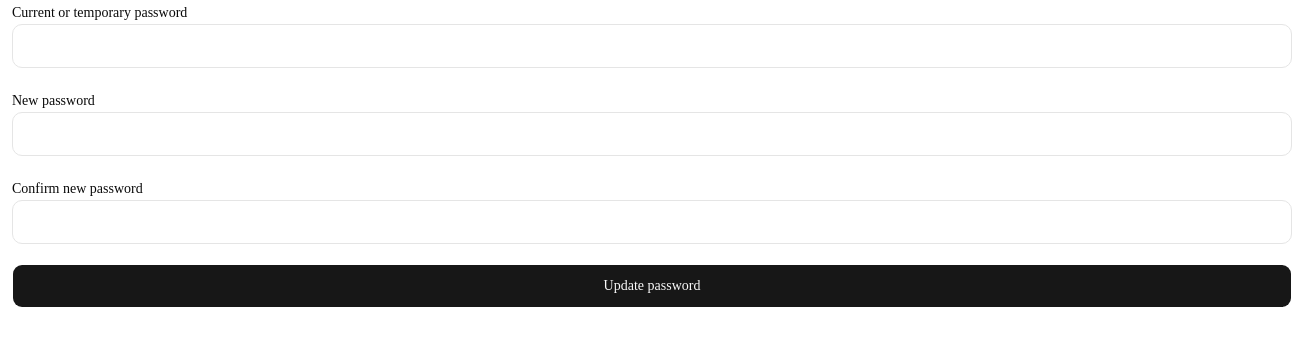
authentication and dashboard screens › renders password-change fields and validates mismatched passwords
In the password field labelled "Current or temporary password": (652, 46) [12,24,1292,68], type "current-password"
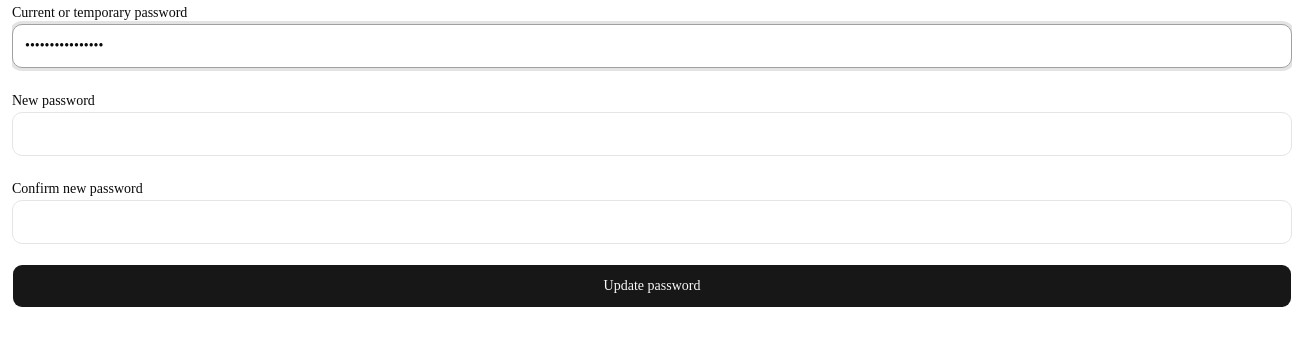
In the password field labelled "New password": (652, 134) [12,112,1292,156], type "new-password-123"
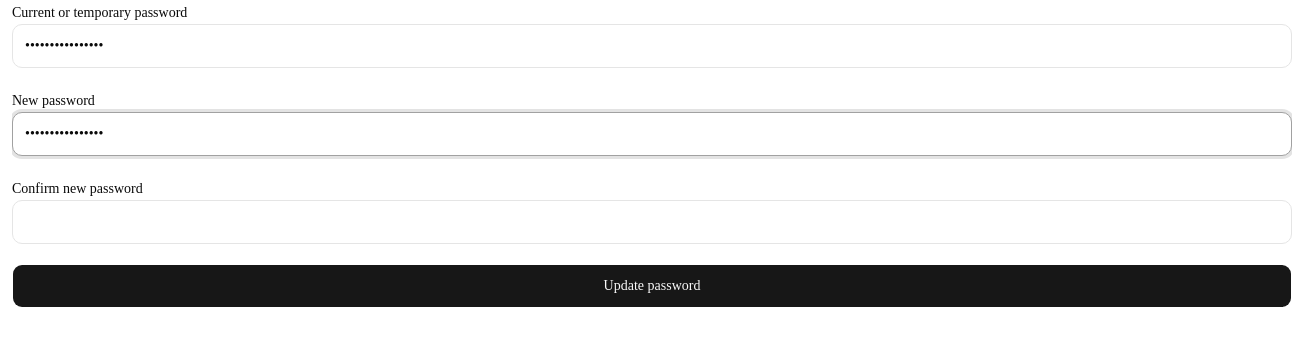
In the password field labelled "Confirm new password": (652, 222) [12,200,1292,244], type "different-password"
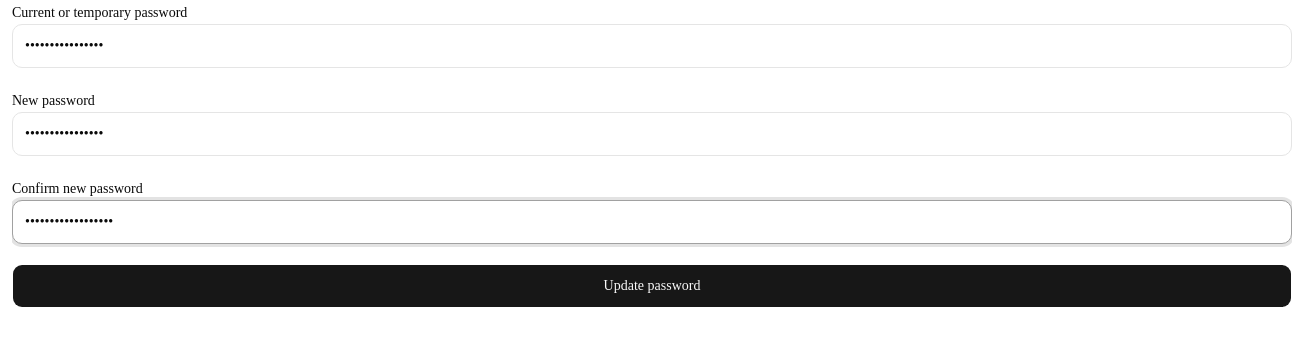
Click the button "Update password": (652, 286) [12,264,1292,308]
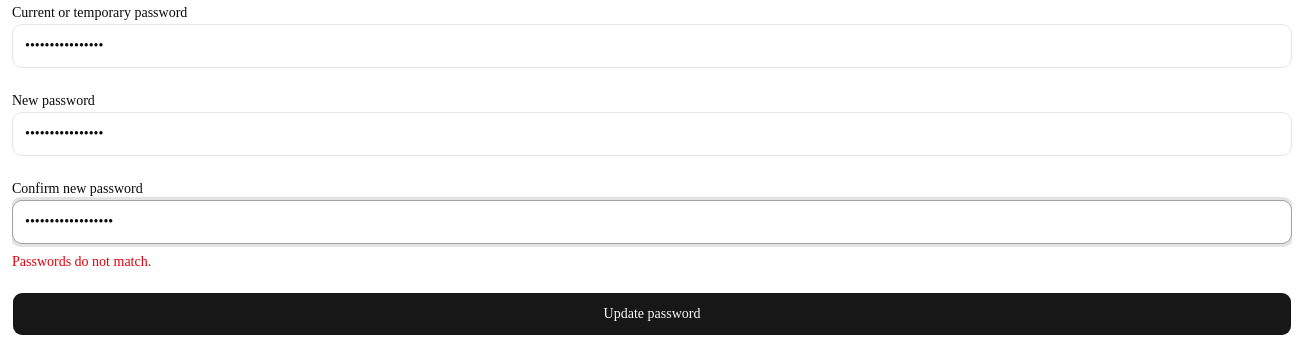
expect the text "Passwords do not match." is shown: met, box [12,254,151,269]
